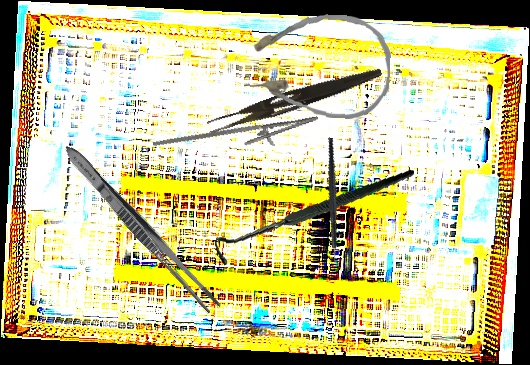Cannula: (242, 10, 393, 121)
Chopper: (289, 136, 382, 272)
Dressing Forceps: (57, 139, 226, 319), (206, 59, 384, 140)
Hook Surgical: (212, 145, 415, 289)
Needle Holder: (151, 95, 323, 179)
